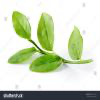Blueberry leaf: (36, 9, 56, 53), (28, 53, 63, 75), (11, 9, 34, 39), (68, 24, 83, 61), (6, 48, 39, 64)
